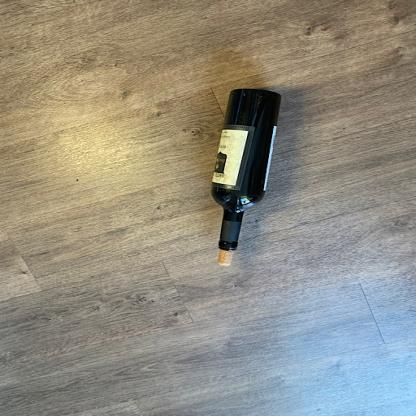trash: (210, 88, 283, 254)
